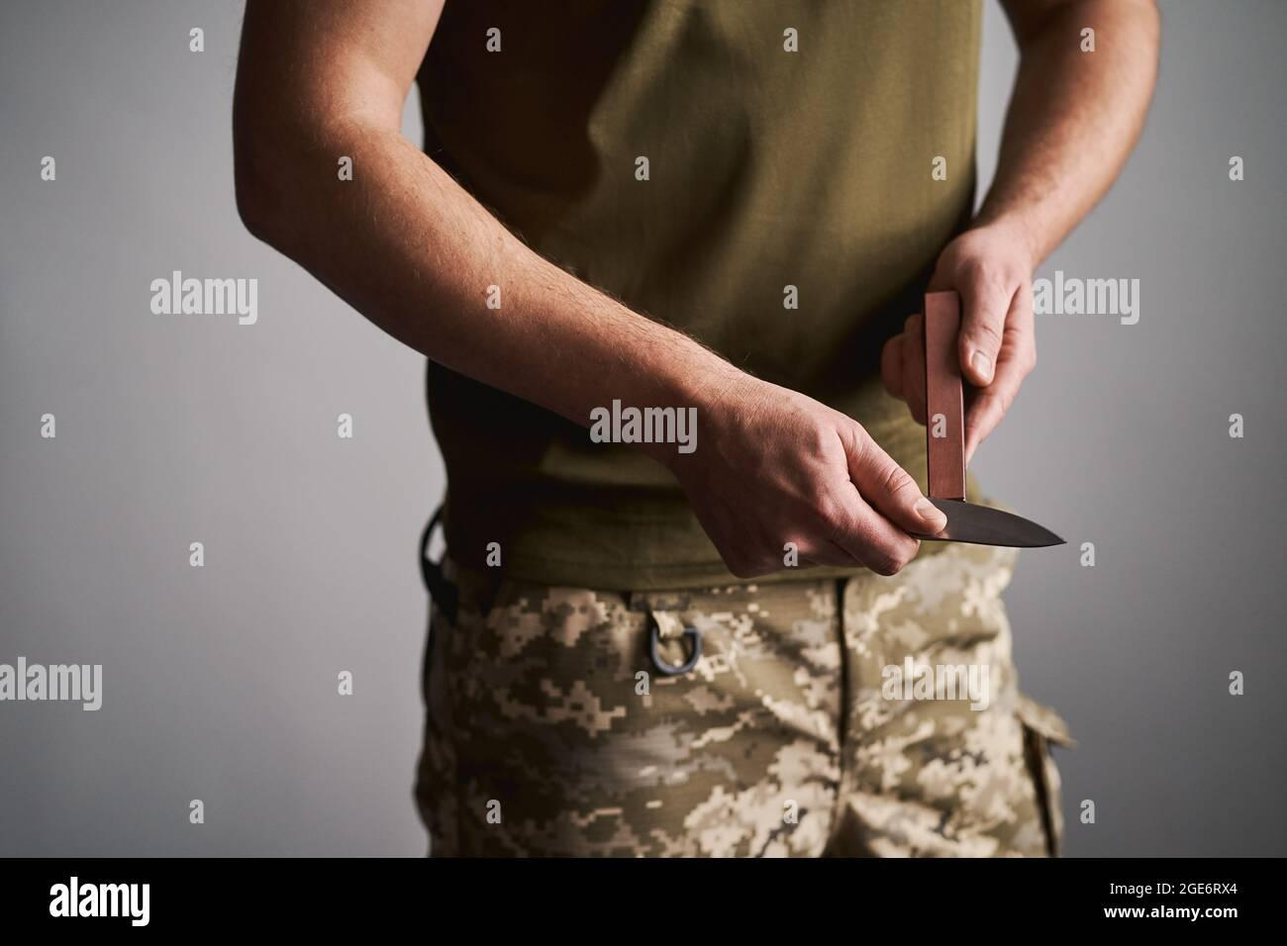Knife: (694, 402, 945, 578), (910, 497, 1068, 552)
